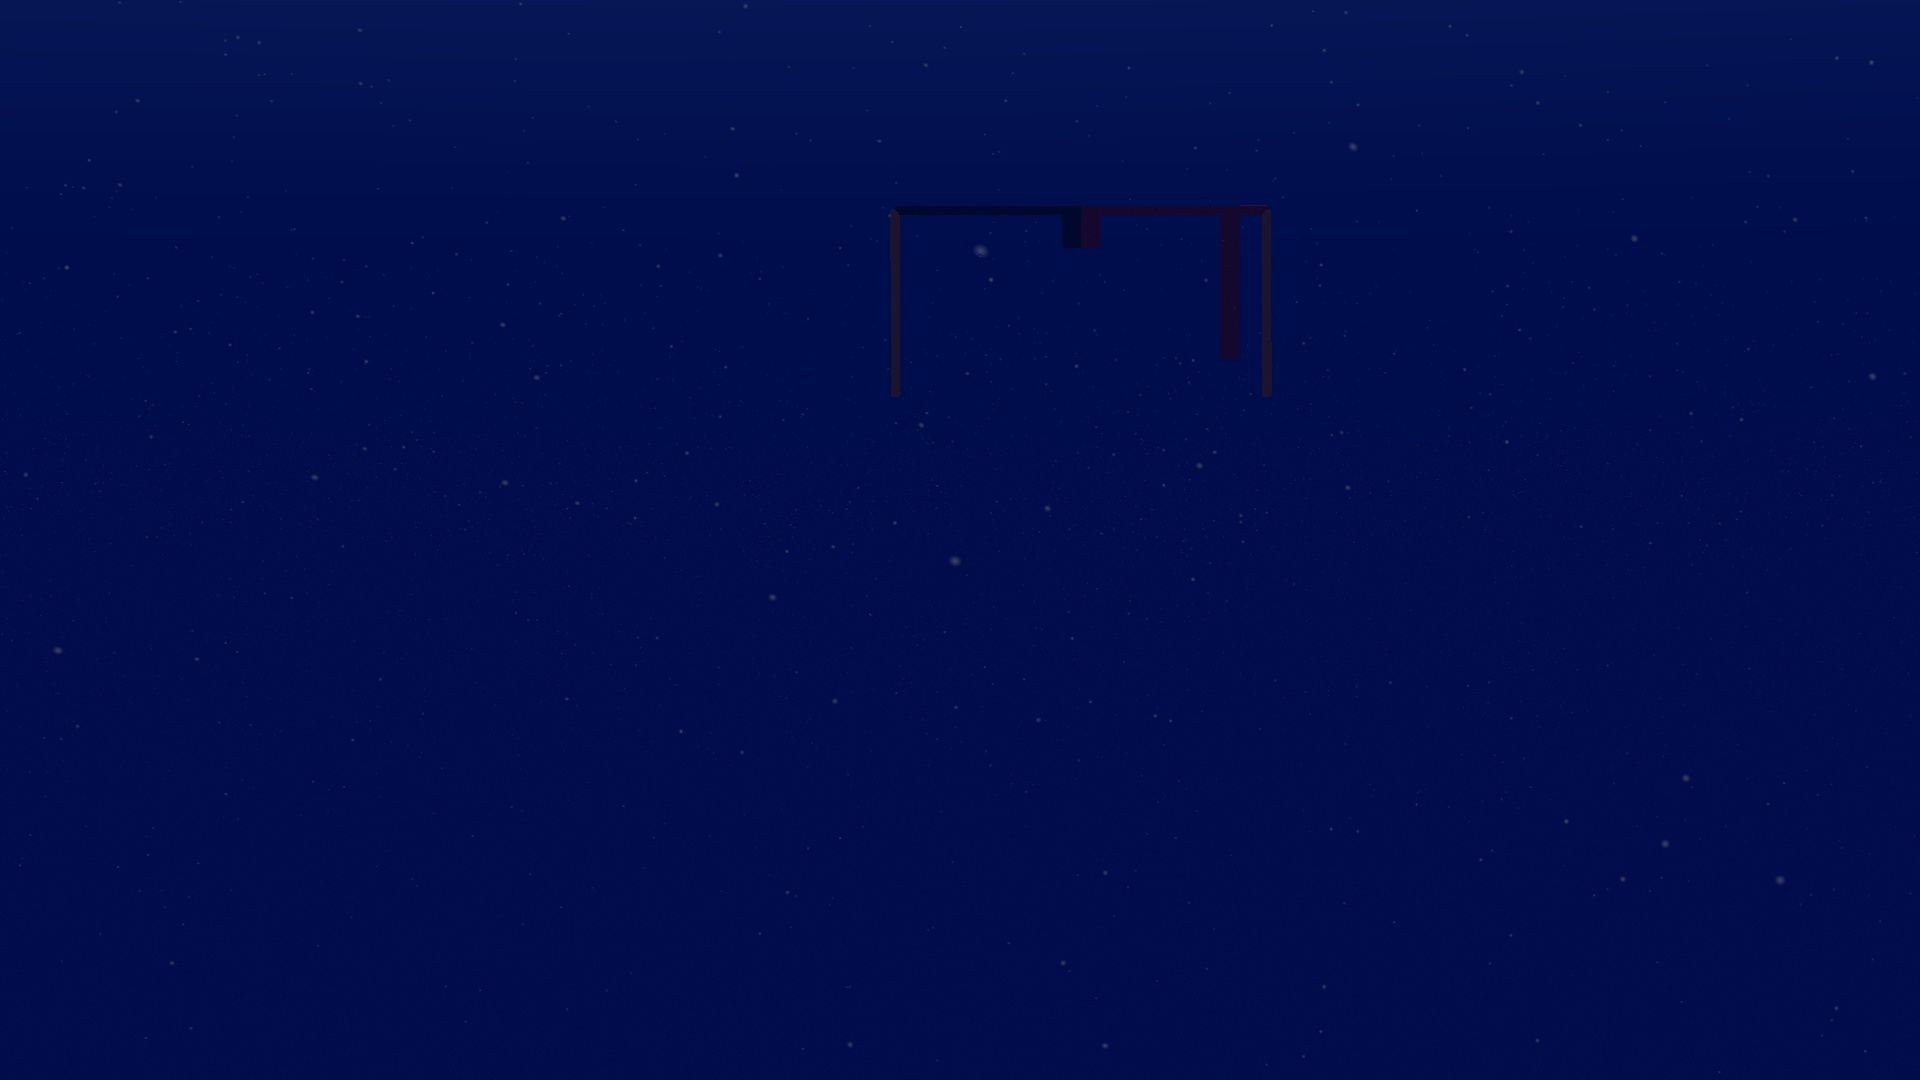Gate: (885, 198, 1279, 417)
